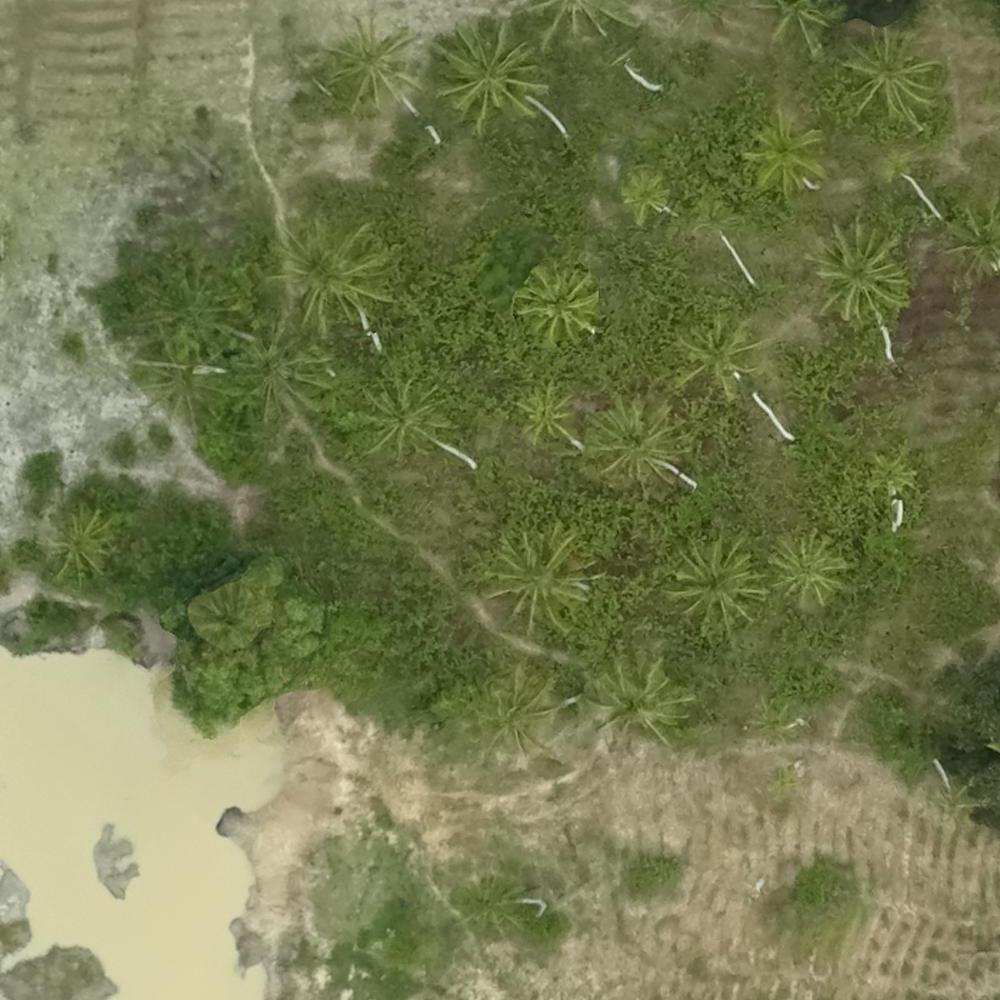Palm: (265, 210, 383, 328), (433, 26, 547, 129), (484, 526, 586, 628), (847, 29, 941, 128), (582, 400, 682, 491), (587, 657, 687, 747), (324, 18, 419, 108), (808, 228, 907, 312), (669, 539, 761, 624), (676, 313, 761, 402), (744, 110, 828, 193), (362, 376, 445, 459), (515, 266, 602, 345), (763, 528, 844, 611), (49, 512, 114, 591), (613, 167, 671, 226), (514, 390, 570, 448)
